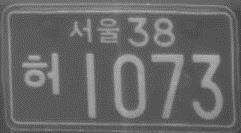0: (111, 52, 147, 119)
1: (80, 50, 101, 120)
3: (189, 52, 224, 121), (126, 15, 150, 47)
7: (148, 52, 185, 121)
8: (153, 17, 175, 47)
서울_O: (69, 18, 120, 44)
허: (21, 51, 61, 95)
